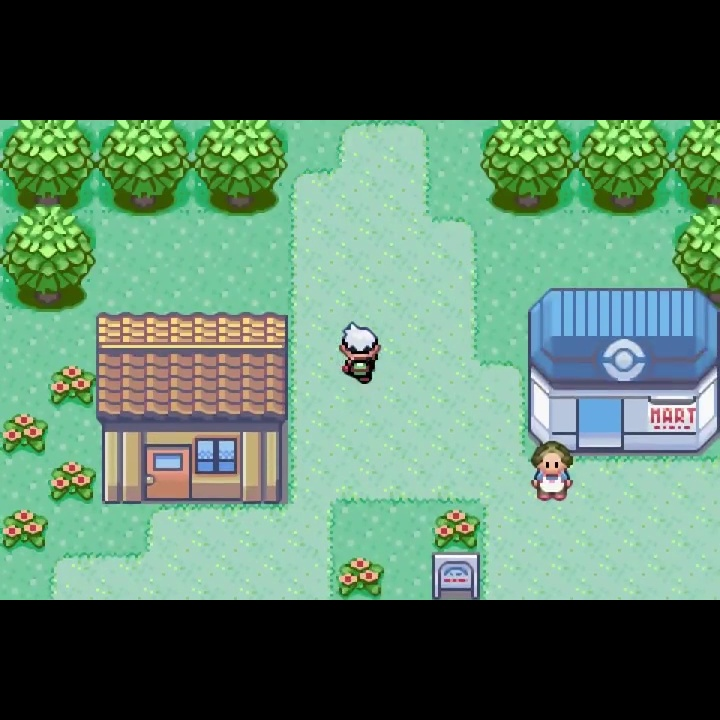house: (94, 310, 292, 507)
npc: (335, 319, 383, 388), (530, 438, 578, 505)
pokemart: (526, 286, 720, 458)
wall: (1, 204, 97, 317), (191, 121, 290, 218), (95, 120, 192, 216), (576, 121, 672, 218), (479, 121, 575, 217), (1, 120, 95, 211), (673, 120, 720, 211), (671, 202, 720, 287)
